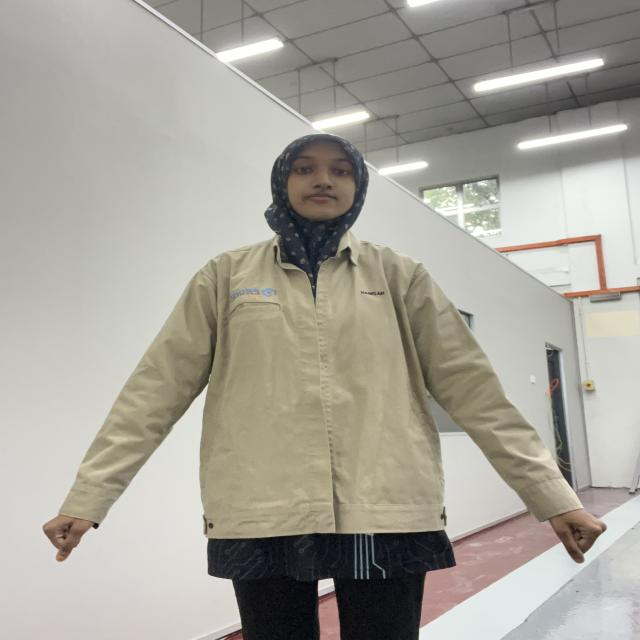person_with_labcoat: (44, 135, 605, 640)
